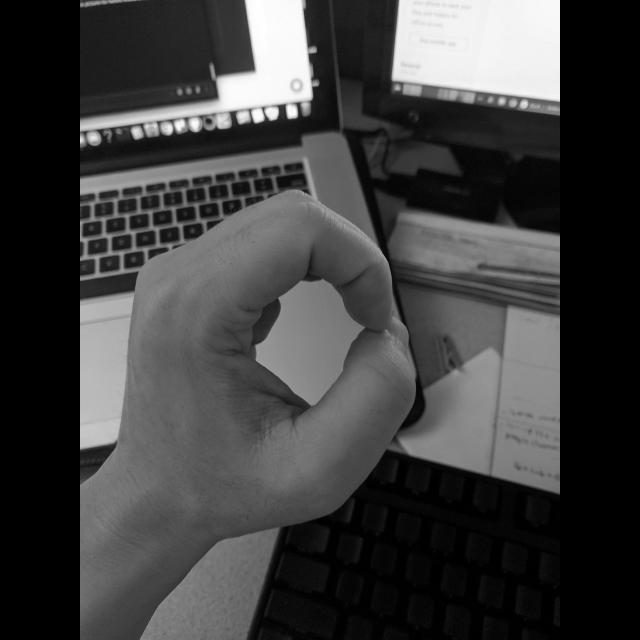O: (112, 185, 422, 541)
